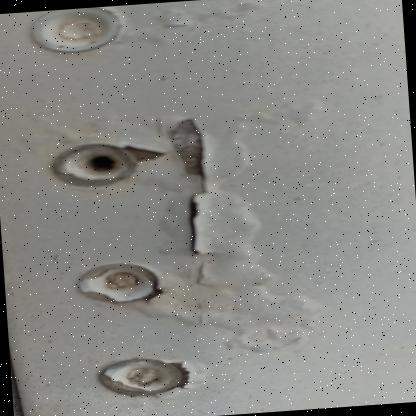Crack: (18, 84, 337, 415)
